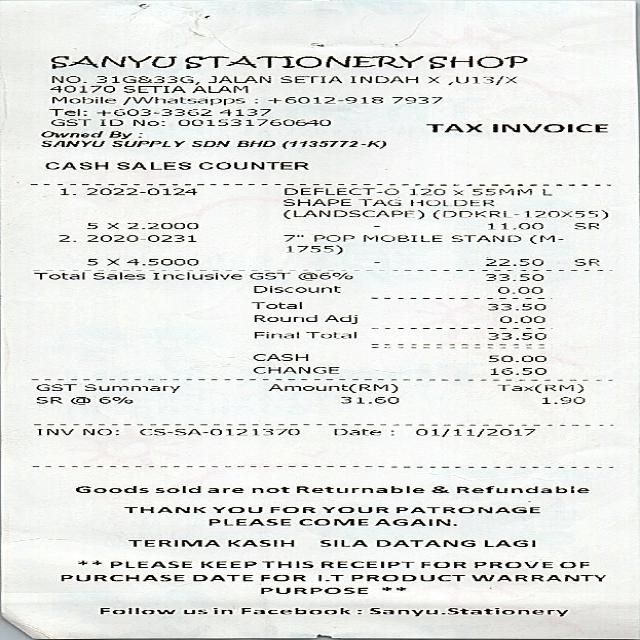text: (183, 55, 421, 68), (369, 607, 567, 616), (432, 209, 606, 219), (49, 55, 176, 68), (283, 209, 423, 219), (428, 55, 527, 68), (267, 383, 395, 392), (138, 428, 299, 435), (176, 118, 328, 125), (492, 123, 606, 132), (394, 506, 538, 513), (122, 96, 244, 104), (413, 428, 534, 436), (240, 606, 360, 614), (470, 574, 605, 581), (282, 187, 396, 195), (84, 187, 197, 195), (260, 586, 367, 594), (94, 76, 200, 84), (280, 140, 386, 148), (94, 108, 210, 115), (266, 96, 381, 103), (455, 486, 589, 492), (494, 384, 583, 393), (82, 384, 179, 392), (84, 234, 194, 241), (198, 162, 307, 169), (296, 486, 423, 492), (320, 560, 413, 568), (60, 574, 182, 580), (348, 574, 464, 580), (376, 539, 475, 546), (448, 75, 517, 85), (253, 366, 337, 374), (410, 198, 493, 206), (108, 560, 190, 568), (126, 539, 219, 546), (472, 560, 550, 568), (252, 285, 340, 292), (100, 606, 174, 614), (373, 518, 455, 525), (362, 234, 442, 241), (208, 518, 288, 525), (347, 75, 416, 83), (282, 198, 350, 206), (151, 272, 239, 278), (115, 162, 189, 169), (74, 485, 147, 492), (424, 123, 480, 132), (285, 245, 341, 254), (278, 75, 340, 83), (39, 130, 101, 138), (253, 314, 315, 322), (126, 222, 196, 229), (126, 258, 196, 265), (297, 518, 367, 525), (488, 367, 546, 375), (227, 539, 293, 546), (48, 85, 113, 92), (110, 140, 183, 146), (123, 85, 185, 92), (44, 162, 106, 169), (297, 272, 350, 280), (332, 427, 379, 436), (485, 332, 545, 339), (249, 301, 301, 309), (201, 560, 253, 568), (487, 355, 546, 362), (339, 396, 398, 403), (122, 507, 204, 512), (451, 235, 519, 241), (484, 258, 541, 265), (484, 273, 541, 280), (487, 303, 544, 310), (38, 140, 104, 146), (190, 85, 246, 92), (486, 222, 541, 229), (51, 96, 114, 102), (264, 560, 311, 568), (183, 606, 230, 614), (207, 76, 269, 82), (390, 96, 442, 103), (192, 574, 252, 580), (219, 108, 270, 115), (305, 331, 356, 338), (472, 188, 531, 194), (419, 560, 463, 568), (483, 539, 533, 546), (356, 198, 398, 206), (253, 354, 307, 360), (153, 485, 199, 492), (318, 539, 364, 546), (248, 272, 288, 280), (322, 507, 386, 512), (91, 272, 144, 278), (32, 272, 84, 278), (498, 286, 542, 293), (253, 331, 297, 338), (322, 314, 356, 323), (529, 234, 562, 243), (540, 396, 582, 403), (50, 118, 90, 125), (498, 316, 544, 322), (258, 574, 304, 580), (314, 234, 352, 241), (81, 428, 119, 435), (34, 428, 71, 435), (211, 507, 262, 512), (558, 560, 588, 568), (36, 384, 75, 390), (48, 108, 86, 114), (191, 140, 229, 146), (250, 486, 288, 492), (98, 396, 130, 403), (237, 140, 274, 146), (269, 507, 313, 512), (409, 188, 444, 194), (108, 130, 131, 139), (51, 76, 85, 82), (132, 119, 162, 125), (36, 396, 61, 403), (573, 222, 597, 229), (573, 258, 597, 265), (98, 118, 121, 125), (69, 396, 88, 404), (205, 488, 242, 492), (317, 574, 341, 580), (59, 187, 76, 195), (284, 234, 301, 241), (59, 234, 74, 241), (431, 486, 448, 492), (424, 76, 439, 82), (104, 222, 117, 228), (106, 258, 119, 264), (85, 222, 96, 228), (85, 258, 96, 264), (542, 188, 550, 194), (453, 189, 461, 194)
